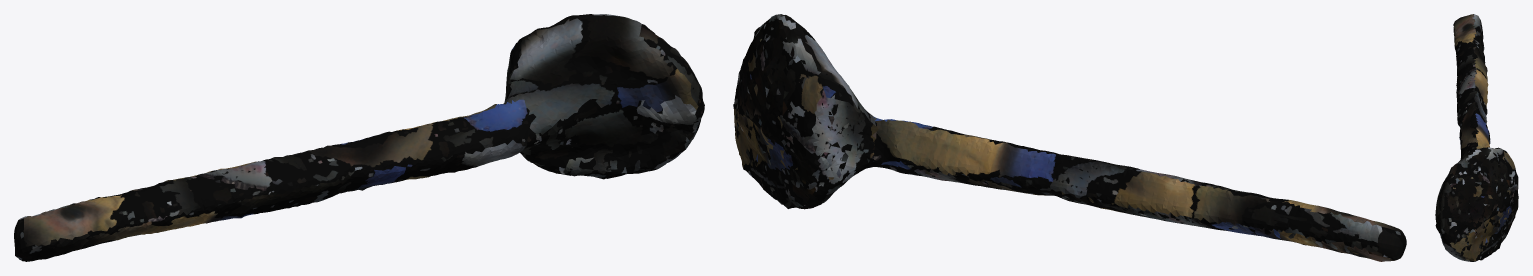
File: center_benchmark_mesh_cutlery-spoon_1.obj
3 renders of one model, left to right at view 1: azimuth 30°, elevation 25°; view 2: azimuth 150°, elevation 25°; view 3: azimuth 270°, elevation 25°, orthographic. The views are drawn at different scales.
Bounding box in the file's own units: 0.2183 × 0.0524 × 0.038.
